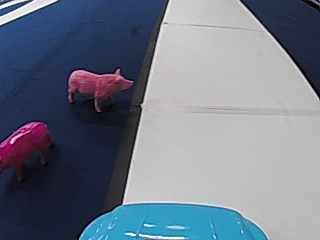pig: (1, 117, 54, 179), (64, 64, 133, 111)
